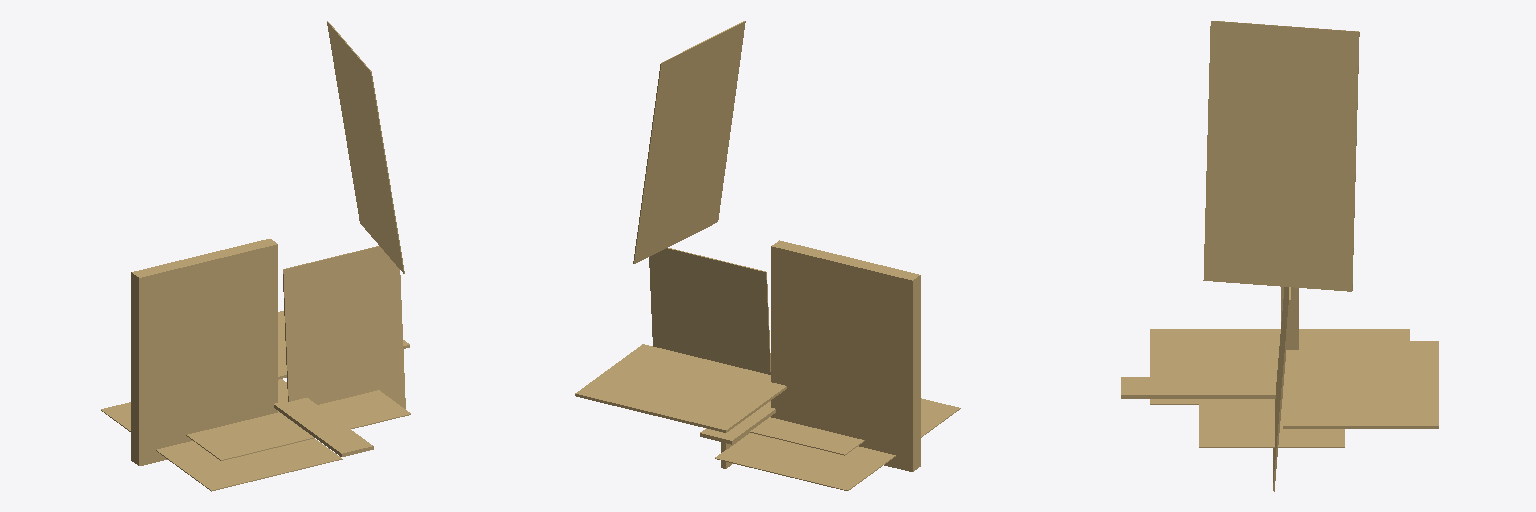
URDF robot description (evolved_design):
<?xml version="1.0" ?>
<robot name="evolved_design">
  <link name="base_link">
    <inertial>
      <mass value="0.001"/>
      <origin xyz="0 0 0" rpy="0 0 0"/>
      <inertia ixx="0.000001" ixy="0" ixz="0" iyy="0.000001" iyz="0" izz="0.000001"/>
    </inertial>
  </link>
  <link name="link_comp_0">
    <inertial>
      <mass value="0.601137"/>
      <origin xyz="0 0 0" rpy="0 0 0"/>
      <inertia ixx="0.009528798" ixy="0" ixz="0" iyy="0.000623806" iyz="0" izz="0.008941351"/>
    </inertial>
    <visual>
      <origin xyz="0 0 0" rpy="0 0 0"/>
      <geometry>
        <box size="0.019050 0.422050 0.109953"/>
      </geometry>
      <material name="link_comp_0_material">
        <color rgba="0.8 0.7 0.5 1"/>
      </material>
    </visual>
    <collision>
      <origin xyz="0 0 0" rpy="0 0 0"/>
      <geometry>
        <box size="0.019050 0.422050 0.109953"/>
      </geometry>
    </collision>
  </link>
  <joint name="base_link_to_link_comp_0" type="fixed">
    <parent link="base_link"/>
    <child link="link_comp_0"/>
    <origin xyz="0.006293 0.256577 0.054976" rpy="0.000000 0.000000 0.000000"/>
  </joint>
  <link name="link_comp_1">
    <inertial>
      <mass value="0.719914"/>
      <origin xyz="0 0 0" rpy="0 0 0"/>
      <inertia ixx="0.029328554" ixy="0" ixz="0" iyy="0.013645577" iyz="0" izz="0.042972921"/>
    </inertial>
    <visual>
      <origin xyz="0 0 0" rpy="0 0 0"/>
      <geometry>
        <box size="0.476910 0.699184 0.003175"/>
      </geometry>
      <material name="link_comp_1_material">
        <color rgba="0.8 0.7 0.5 1"/>
      </material>
    </visual>
    <collision>
      <origin xyz="0 0 0" rpy="0 0 0"/>
      <geometry>
        <box size="0.476910 0.699184 0.003175"/>
      </geometry>
    </collision>
  </link>
  <joint name="base_link_to_link_comp_1" type="fixed">
    <parent link="base_link"/>
    <child link="link_comp_1"/>
    <origin xyz="-0.238955 0.183647 0.062099" rpy="0.000000 0.000000 0.000000"/>
  </joint>
  <link name="link_comp_2">
    <inertial>
      <mass value="0.752391"/>
      <origin xyz="0 0 0" rpy="0 0 0"/>
      <inertia ixx="0.035443700" ixy="0" ixz="0" iyy="0.000852228" iyz="0" izz="0.036275702"/>
    </inertial>
    <visual>
      <origin xyz="0 0 0" rpy="0 0 0"/>
      <geometry>
        <box size="0.115892 0.751755 0.012700"/>
      </geometry>
      <material name="link_comp_2_material">
        <color rgba="0.8 0.7 0.5 1"/>
      </material>
    </visual>
    <collision>
      <origin xyz="0 0 0" rpy="0 0 0"/>
      <geometry>
        <box size="0.115892 0.751755 0.012700"/>
      </geometry>
    </collision>
  </link>
  <joint name="base_link_to_link_comp_2" type="fixed">
    <parent link="base_link"/>
    <child link="link_comp_2"/>
    <origin xyz="0.009355 0.131930 0.116803" rpy="0.000000 0.000000 0.000000"/>
  </joint>
  <link name="link_comp_3">
    <inertial>
      <mass value="0.775319"/>
      <origin xyz="0 0 0" rpy="0 0 0"/>
      <inertia ixx="0.020982424" ixy="0" ixz="0" iyy="0.032445728" iyz="0" izz="0.011466219"/>
    </inertial>
    <visual>
      <origin xyz="0 0 0" rpy="0 0 0"/>
      <geometry>
        <box size="0.421243 0.004750 0.569853"/>
      </geometry>
      <material name="link_comp_3_material">
        <color rgba="0.8 0.7 0.5 1"/>
      </material>
    </visual>
    <collision>
      <origin xyz="0 0 0" rpy="0 0 0"/>
      <geometry>
        <box size="0.421243 0.004750 0.569853"/>
      </geometry>
    </collision>
  </link>
  <joint name="base_link_to_link_comp_3" type="fixed">
    <parent link="base_link"/>
    <child link="link_comp_3"/>
    <origin xyz="0.210622 0.188619 0.284927" rpy="-0.076296 0.000000 0.000000"/>
  </joint>
  <link name="link_comp_4">
    <inertial>
      <mass value="11.258403"/>
      <origin xyz="0 0 0" rpy="0 0 0"/>
      <inertia ixx="0.405233325" ixy="0" ixz="0" iyy="0.642441461" iyz="0" izz="0.241899137"/>
    </inertial>
    <visual>
      <origin xyz="0 0 0" rpy="0 0 0"/>
      <geometry>
        <box size="0.505305 0.050000 0.655306"/>
      </geometry>
      <material name="link_comp_4_material">
        <color rgba="0.8 0.7 0.5 1"/>
      </material>
    </visual>
    <collision>
      <origin xyz="0 0 0" rpy="0 0 0"/>
      <geometry>
        <box size="0.505305 0.050000 0.655306"/>
      </geometry>
    </collision>
  </link>
  <joint name="base_link_to_link_comp_4" type="fixed">
    <parent link="base_link"/>
    <child link="link_comp_4"/>
    <origin xyz="-0.284387 0.210439 0.347075" rpy="0.000000 0.000000 0.000000"/>
  </joint>
  <link name="link_comp_5">
    <inertial>
      <mass value="1.470087"/>
      <origin xyz="0 0 0" rpy="0 0 0"/>
      <inertia ixx="0.021640990" ixy="0" ixz="0" iyy="0.035755486" iyz="0" izz="0.057374247"/>
    </inertial>
    <visual>
      <origin xyz="0 0 0" rpy="0 0 0"/>
      <geometry>
        <box size="0.540161 0.420190 0.009525"/>
      </geometry>
      <material name="link_comp_5_material">
        <color rgba="0.8 0.7 0.5 1"/>
      </material>
    </visual>
    <collision>
      <origin xyz="0 0 0" rpy="0 0 0"/>
      <geometry>
        <box size="0.540161 0.420190 0.009525"/>
      </geometry>
    </collision>
  </link>
  <joint name="base_link_to_link_comp_5" type="fixed">
    <parent link="base_link"/>
    <child link="link_comp_5"/>
    <origin xyz="0.182590 0.401589 0.205146" rpy="0.000000 0.000000 0.000000"/>
  </joint>
  <link name="link_comp_6">
    <inertial>
      <mass value="0.641104"/>
      <origin xyz="0 0 0" rpy="0 0 0"/>
      <inertia ixx="0.037302975" ixy="0" ixz="0" iyy="0.028460161" iyz="0" izz="0.008843891"/>
    </inertial>
    <visual>
      <origin xyz="0 0 0" rpy="0 0 0"/>
      <geometry>
        <box size="0.003175 0.406851 0.729862"/>
      </geometry>
      <material name="link_comp_6_material">
        <color rgba="0.8 0.7 0.5 1"/>
      </material>
    </visual>
    <collision>
      <origin xyz="0 0 0" rpy="0 0 0"/>
      <geometry>
        <box size="0.003175 0.406851 0.729862"/>
      </geometry>
    </collision>
  </link>
  <joint name="base_link_to_link_comp_6" type="fixed">
    <parent link="base_link"/>
    <child link="link_comp_6"/>
    <origin xyz="0.288785 0.188091 0.935285" rpy="0.000000 -0.153479 -0.174028"/>
  </joint>
  <link name="link_comp_7">
    <inertial>
      <mass value="0.630815"/>
      <origin xyz="0 0 0" rpy="0 0 0"/>
      <inertia ixx="0.008021506" ixy="0" ixz="0" iyy="0.025216287" iyz="0" izz="0.033236557"/>
    </inertial>
    <visual>
      <origin xyz="0 0 0" rpy="0 0 0"/>
      <geometry>
        <box size="0.692588 0.390617 0.003429"/>
      </geometry>
      <material name="link_comp_7_material">
        <color rgba="0.8 0.7 0.5 1"/>
      </material>
    </visual>
    <collision>
      <origin xyz="0 0 0" rpy="0 0 0"/>
      <geometry>
        <box size="0.692588 0.390617 0.003429"/>
      </geometry>
    </collision>
  </link>
  <joint name="base_link_to_link_comp_7" type="fixed">
    <parent link="base_link"/>
    <child link="link_comp_7"/>
    <origin xyz="-0.019187 0.162267 0.087684" rpy="0.000000 0.000000 0.000000"/>
  </joint>
</robot>

--- Render facts (derived) ---
Views: 3 orthographic renders of the robot side by side, from view 1: azimuth 30°, elevation 25°; view 2: azimuth 150°, elevation 25°; view 3: azimuth 270°, elevation 25°.
Model evolved_design with 9 links and 8 joints (8 fixed), rooted at base_link, posed every joint at zero.
Visible links, largest first — view 1: link_comp_4, link_comp_3, link_comp_6, link_comp_7, link_comp_1, link_comp_2, link_comp_5; view 2: link_comp_4, link_comp_6, link_comp_3, link_comp_5, link_comp_1, link_comp_7, link_comp_2; view 3: link_comp_6, link_comp_5, link_comp_7, link_comp_1, link_comp_2, link_comp_3, link_comp_4.
Boxes of the visible links, bbox=[...] form: link_comp_4: bbox=[131, 239, 277, 465]; link_comp_3: bbox=[283, 246, 405, 408]; link_comp_6: bbox=[327, 21, 404, 273]; link_comp_7: bbox=[186, 390, 410, 460]; link_comp_1: bbox=[101, 402, 342, 491]; link_comp_2: bbox=[274, 379, 373, 456]; link_comp_5: bbox=[278, 311, 409, 379]; link_comp_4: bbox=[771, 240, 920, 471]; link_comp_6: bbox=[633, 21, 745, 263]; link_comp_3: bbox=[649, 248, 770, 374]; link_comp_5: bbox=[575, 344, 786, 432]; link_comp_1: bbox=[715, 398, 960, 490]; link_comp_7: bbox=[750, 417, 864, 455]; link_comp_2: bbox=[700, 401, 775, 444]; link_comp_6: bbox=[1203, 21, 1359, 291]; link_comp_5: bbox=[1283, 341, 1438, 428]; link_comp_7: bbox=[1199, 338, 1344, 447]; link_comp_1: bbox=[1150, 329, 1409, 404]; link_comp_2: bbox=[1121, 377, 1282, 398]; link_comp_3: bbox=[1273, 287, 1290, 491]; link_comp_4: bbox=[1281, 287, 1298, 349].
Bounding box of the posed robot: 0.9897 × 0.8556 × 1.3 m (x, y, z).
Geometry: primitives only (box / cylinder / sphere), no mesh files.